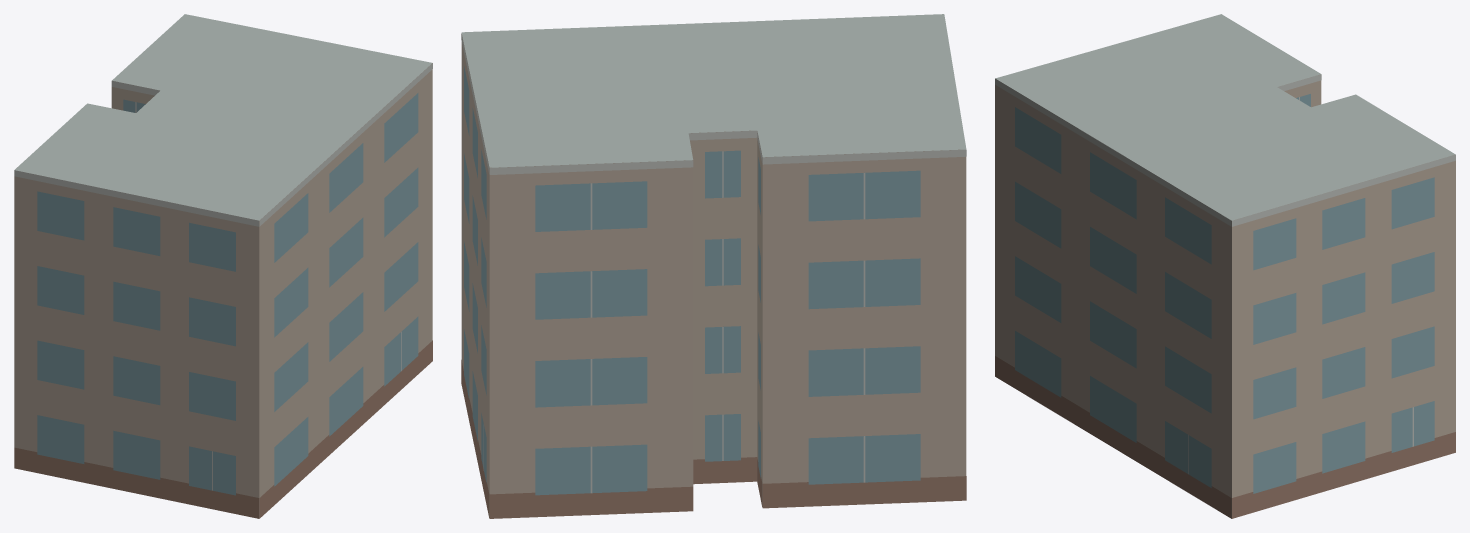
Rendered from survey-upis-32938350.glb.
3 renders of one model, left to right at view 1: azimuth 30°, elevation 25°; view 2: azimuth 150°, elevation 25°; view 3: azimuth 270°, elevation 25°, orthographic. The views are drawn at different scales.
Parts seen in each view (by area): view 1: survey-upis-32938350.tmp; view 2: survey-upis-32938350.tmp; view 3: survey-upis-32938350.tmp.
Part boxes in pixels (box(x1,y1,x2,y2)): survey-upis-32938350.tmp: box(14, 14, 432, 518); survey-upis-32938350.tmp: box(461, 14, 966, 518); survey-upis-32938350.tmp: box(995, 14, 1455, 518).
Bounding box in the file's own units: 17.41 × 11.7 × 16.39.
